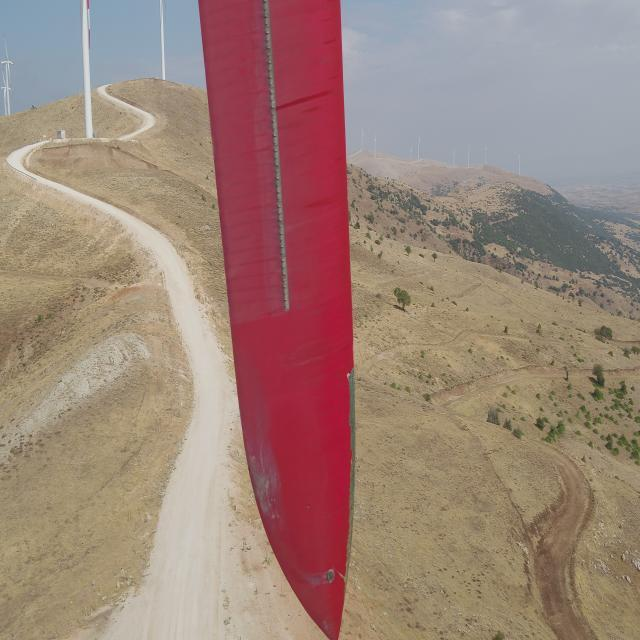Coating_defects: (244, 451, 282, 531)
EROSION: (334, 370, 360, 614)
